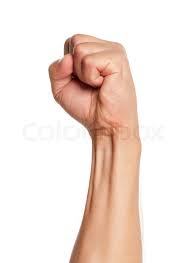hand: (41, 22, 151, 157)
